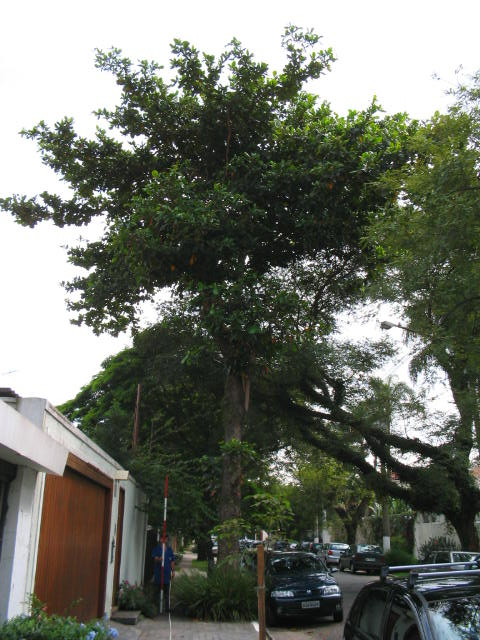crown: (6, 22, 417, 375)
stem: (198, 391, 254, 614)
stick: (154, 475, 173, 616)
tree: (4, 20, 420, 615)
